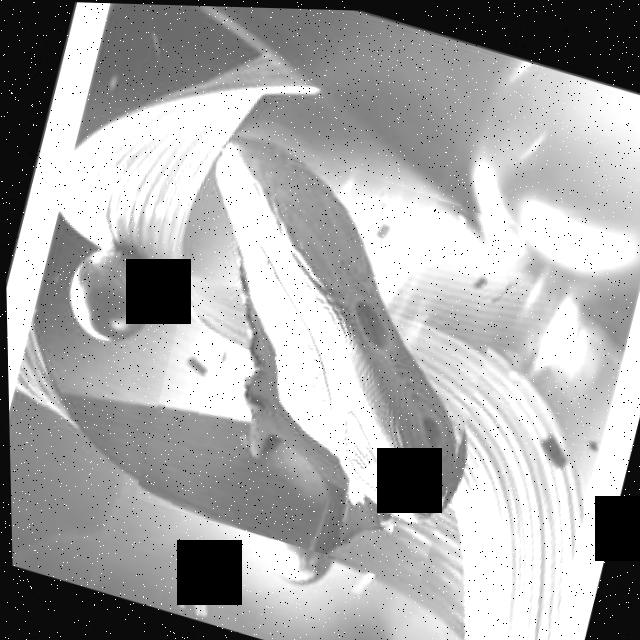shoe: (125, 126, 530, 586)
